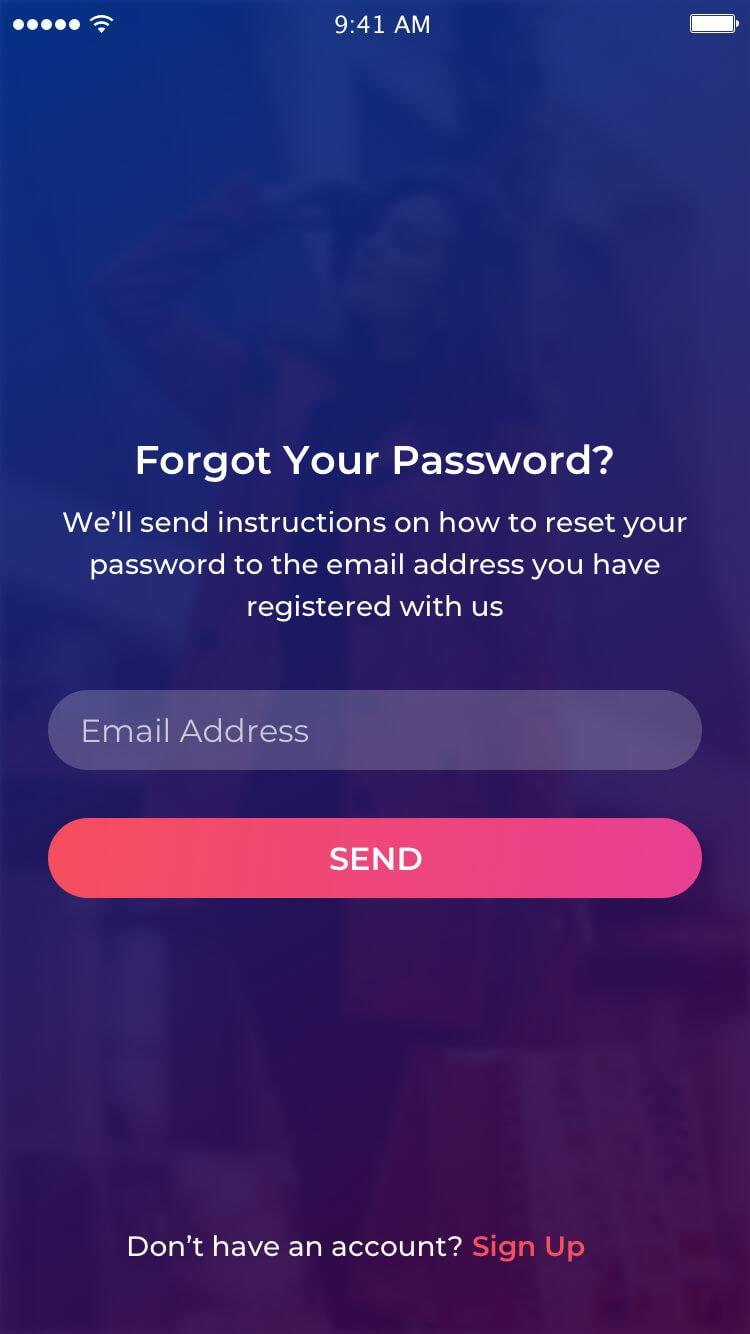button: (47, 818, 704, 901)
input: (48, 692, 702, 777)
